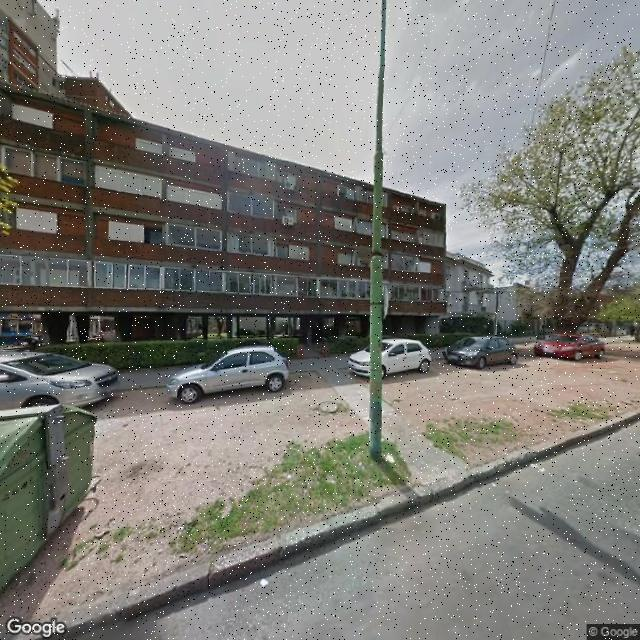garbage container: (2, 395, 114, 603)
